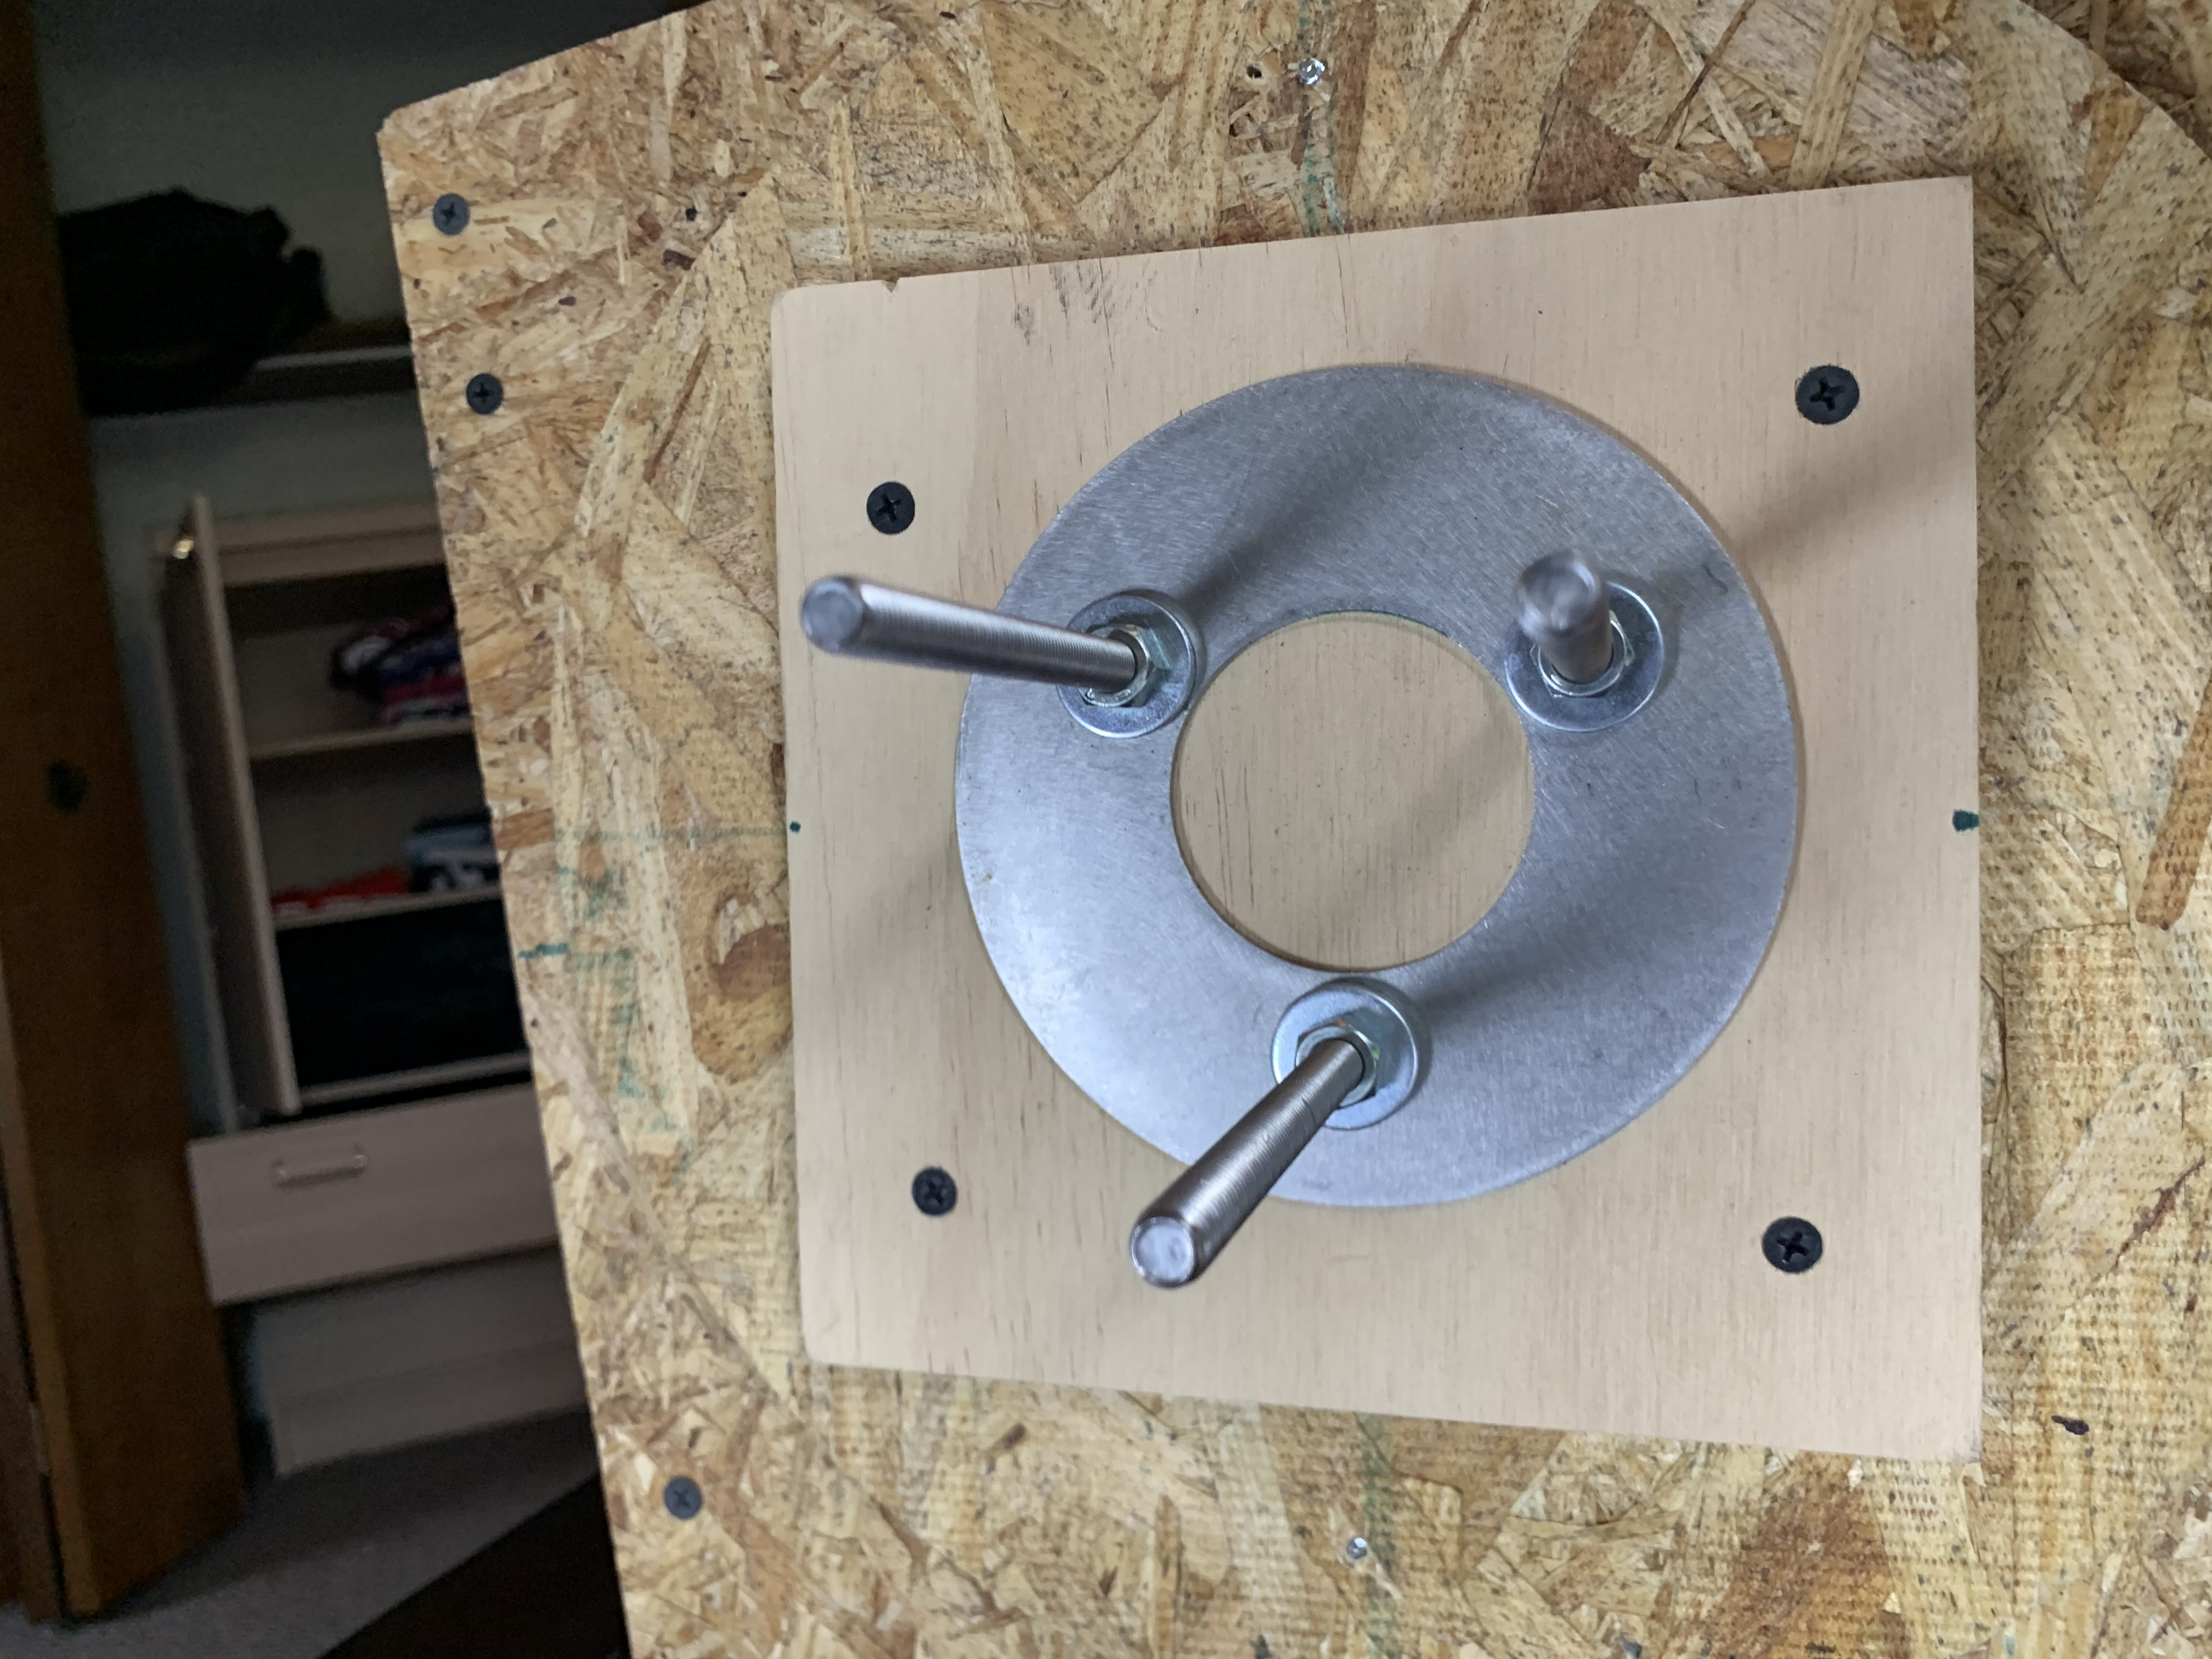bolt: (1498, 577, 1670, 732), (1268, 979, 1426, 1136), (1054, 587, 1207, 739)
